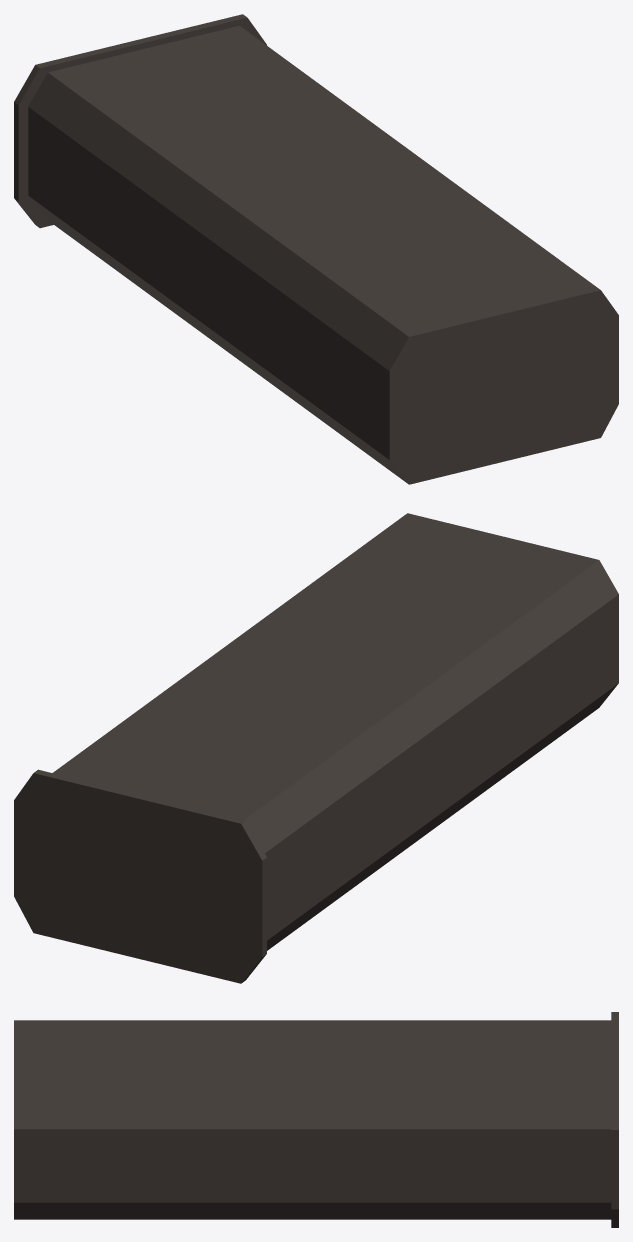
Rendered from C96Mag.glb.
3 renders of one model, top to bottom at view 1: azimuth 30°, elevation 25°; view 2: azimuth 150°, elevation 25°; view 3: azimuth 270°, elevation 25°, orthographic. The views are drawn at different scales.
Visible parts, largest first — view 1: C96Mag; view 2: C96Mag; view 3: C96Mag.
Boxes of the visible parts, <box> form: C96Mag: <box>14,14,618,484</box>; C96Mag: <box>14,513,618,983</box>; C96Mag: <box>14,1012,618,1227</box>.
Size of the model in its own units: 0.3577 by 0.2202 by 0.9131.
Materials: 1 (1 with a texture image).
